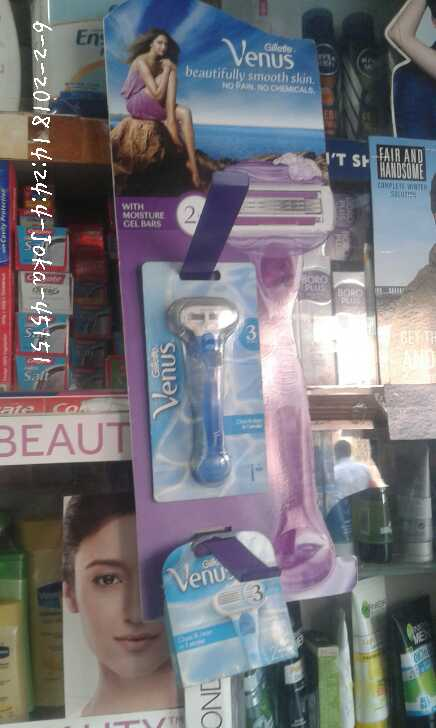venus: (144, 257, 266, 495), (157, 528, 299, 669)
